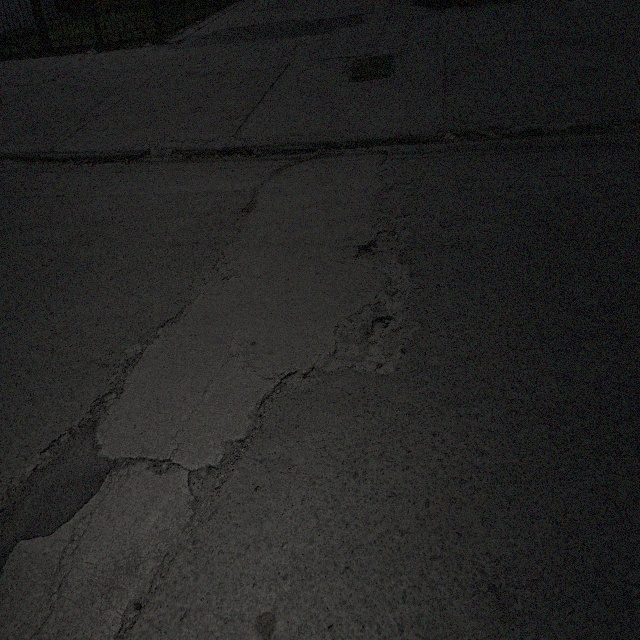pothole: (187, 439, 243, 521), (255, 378, 295, 434), (366, 313, 395, 347), (121, 598, 140, 634), (358, 238, 381, 264), (382, 224, 408, 245), (149, 460, 173, 476), (241, 196, 257, 220)
